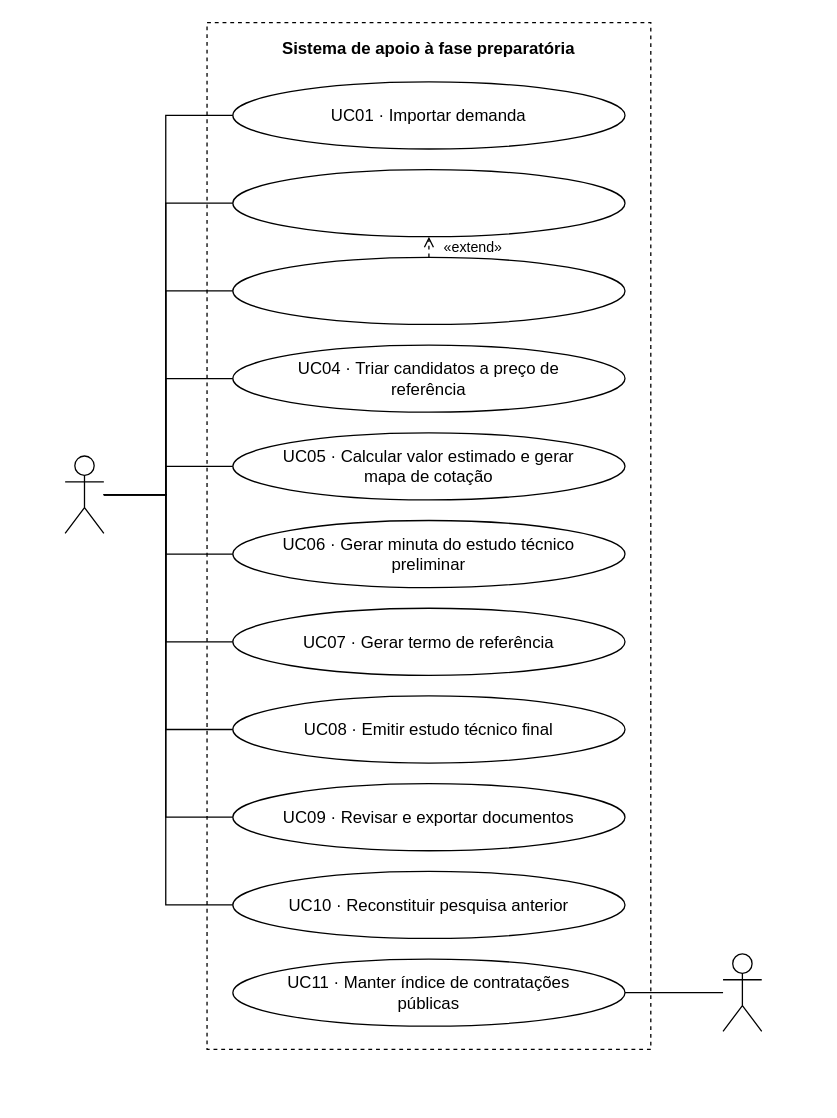
Some shapes in this 837 by 1118 pixel diagram are drawn without their labels. The centre of each missing label's shape, as x and y in pixels:
Operador do setor de licitações: [84,494]
UC02 · Validar itens da demanda: [428,202]
UC03 · Consolidar demandas entre secretarias: [428,290]
«sistema» Base pública de contratações (PNCP): [742,992]
